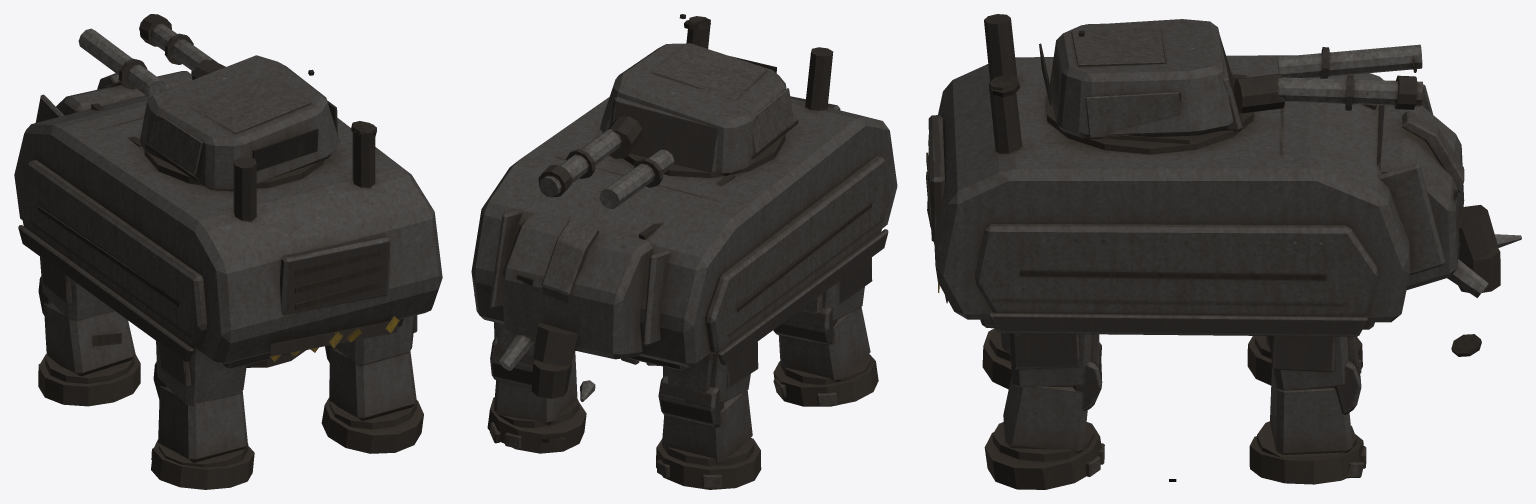
The model's file is chs_mammoth_wreck.fbx.
3 views of the same model, side by side, from view 1: azimuth 30°, elevation 25°; view 2: azimuth 150°, elevation 25°; view 3: azimuth 270°, elevation 25° (orthographic). The views are drawn at different scales.
Visible parts, largest first — view 1: base_bar, turret_bar, legBL_bar, legFL_bar, legBR_bar, barrels_bar; view 2: base_bar, turret_bar, legFL_bar, legBL_bar, barrels_bar, legFR_bar; view 3: base_bar, turret_bar, legBR_bar, legFR_bar, barrels_bar, legBL_bar, legFL_bar.
Boxes of the visible parts, left/top/right/bottom form: base_bar: left=14, top=71, right=442, bottom=369; turret_bar: left=140, top=55, right=339, bottom=191; legBL_bar: left=151, top=341, right=254, bottom=489; legFL_bar: left=38, top=256, right=140, bottom=406; legBR_bar: left=321, top=315, right=423, bottom=453; barrels_bar: left=78, top=14, right=225, bottom=97; base_bar: left=471, top=16, right=897, bottom=442; turret_bar: left=600, top=14, right=798, bottom=176; legFL_bar: left=656, top=342, right=761, bottom=489; legBL_bar: left=773, top=257, right=878, bottom=406; barrels_bar: left=538, top=96, right=718, bottom=208; legFR_bar: left=487, top=322, right=586, bottom=453; base_bar: left=926, top=14, right=1521, bottom=356; turret_bar: left=1039, top=19, right=1233, bottom=144; legBR_bar: left=984, top=333, right=1104, bottom=489; legFR_bar: left=1249, top=336, right=1366, bottom=484; barrels_bar: left=1219, top=33, right=1422, bottom=131; legBL_bar: left=982, top=328, right=1101, bottom=389; legFL_bar: left=1247, top=336, right=1362, bottom=385.
Bounding box in the file's own units: 954 × 1435 × 1641.
Materials: 2 (2 with a texture image).
